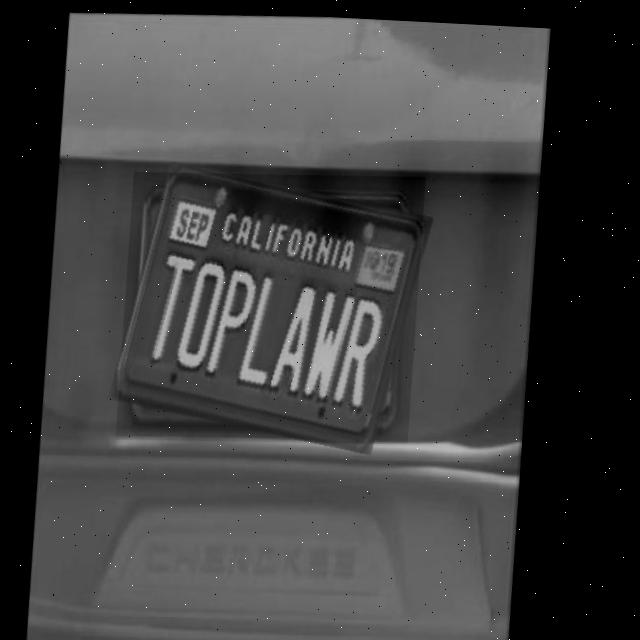LicensePlate: (115, 160, 438, 449)
